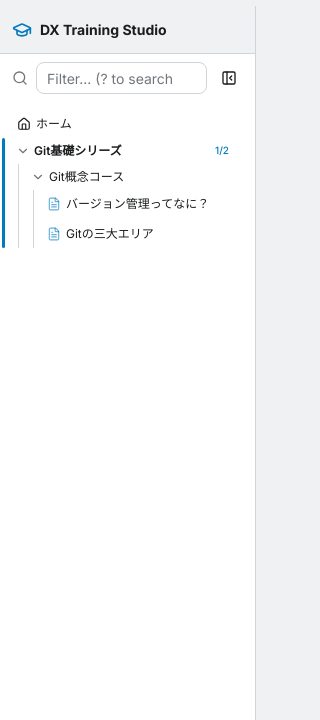
ContentTreePane › シリーズを開き直しても配下コースの開閉状態は保たれる
This screenshot has width=320, height=720.
Note: コースを畳む → シリーズを畳む → シリーズ行クリックで開き直す
Click the button named "コースを折りたたむ". click: click(38, 177)
box: [29, 168, 47, 186]
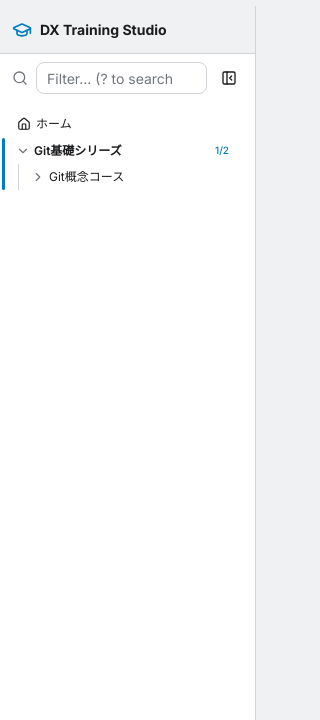
Click the button named "シリーズを折りたたむ". click: click(23, 151)
box: [14, 142, 32, 160]
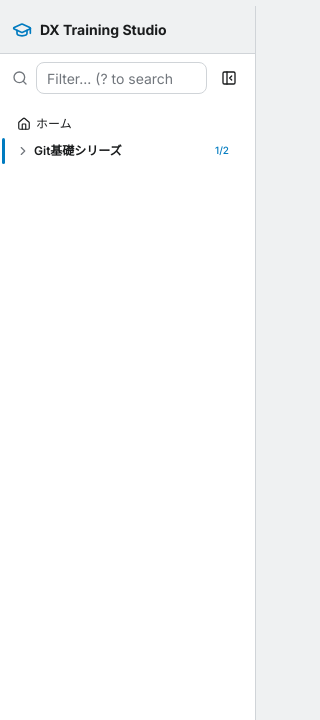
Click the button "Git基礎シリーズ". click: click(78, 150)
box: [34, 143, 122, 158]
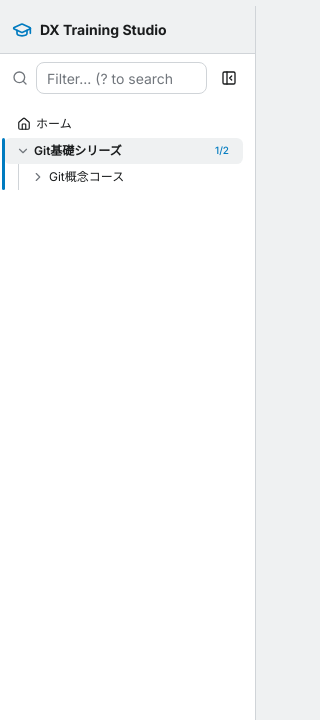
Expected: the button "Gitの三大エリア" is not shown
Expected: the button "Git概念コース" is shown, [49, 169, 124, 184]
